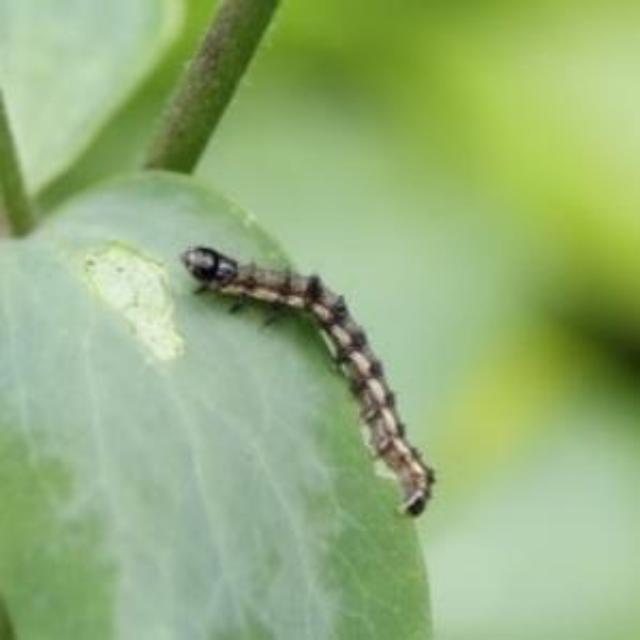Cotton bollworm: (177, 234, 443, 530)
